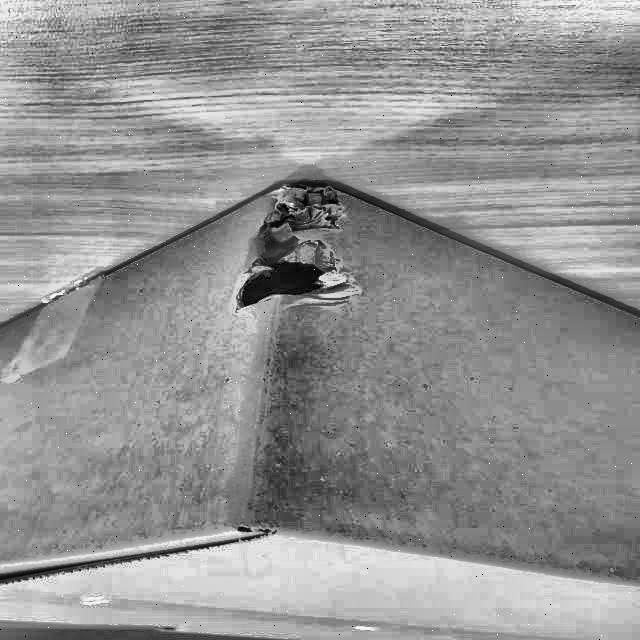box: (1, 159, 640, 640)
hole: (210, 182, 366, 325)
